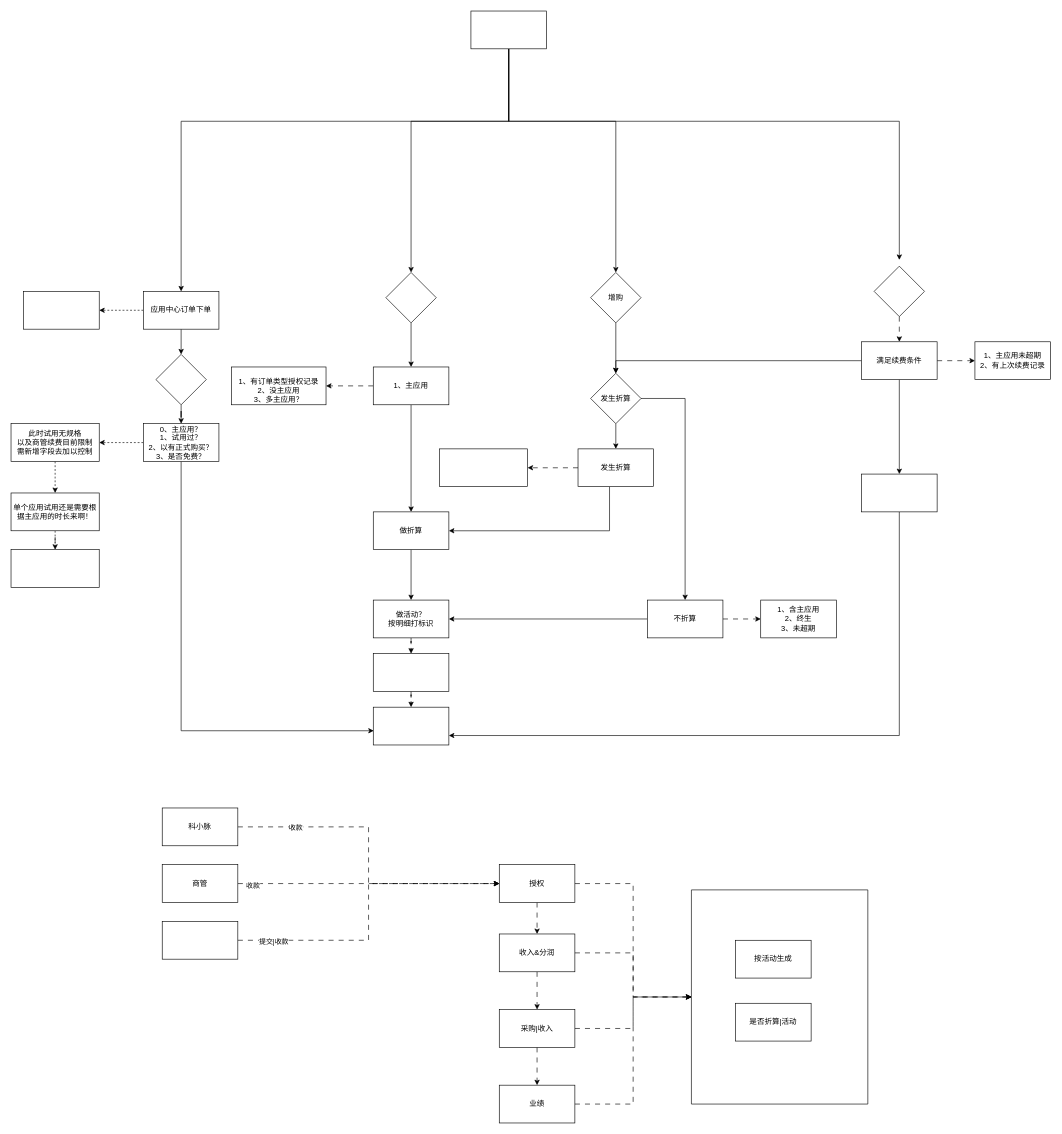
The diagram is 1062 pixels wide and 1134 high, and some of its shapes have lost their labels. Each missing label, with the box of its shape:
1、本期新增按商户看是否已试用 2、给到试用价格: (23, 291, 99, 329)
1、非主应用 2、非永久 3、超主应用截止日期: (439, 448, 528, 487)
end: (373, 707, 449, 745)
E助手: (162, 921, 238, 959)
上游系统下单 携带系统标识: (470, 10, 547, 49)
另外授权都与规格挂钩此处处理比较麻烦: (10, 549, 99, 587)
异常: (861, 473, 937, 512)
新购: (385, 272, 436, 323)
看是否是买送: (373, 653, 449, 691)
续费: (873, 266, 925, 317)
试用: (155, 354, 206, 405)
